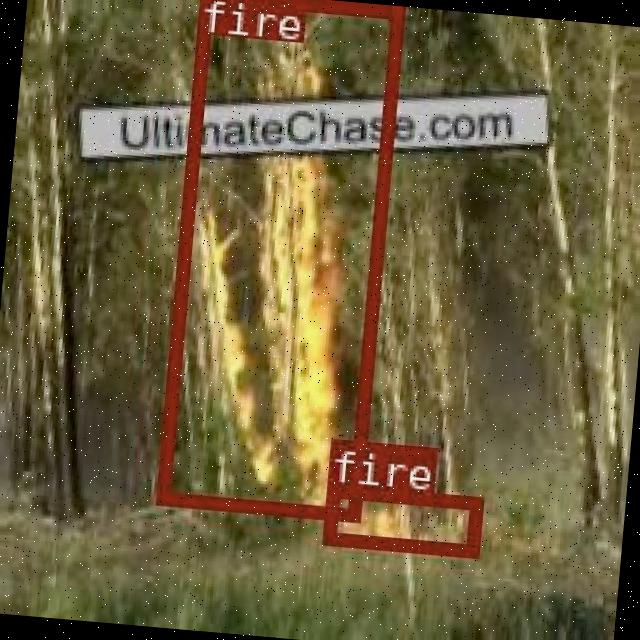fire: (152, 0, 399, 517), (320, 483, 482, 554)
